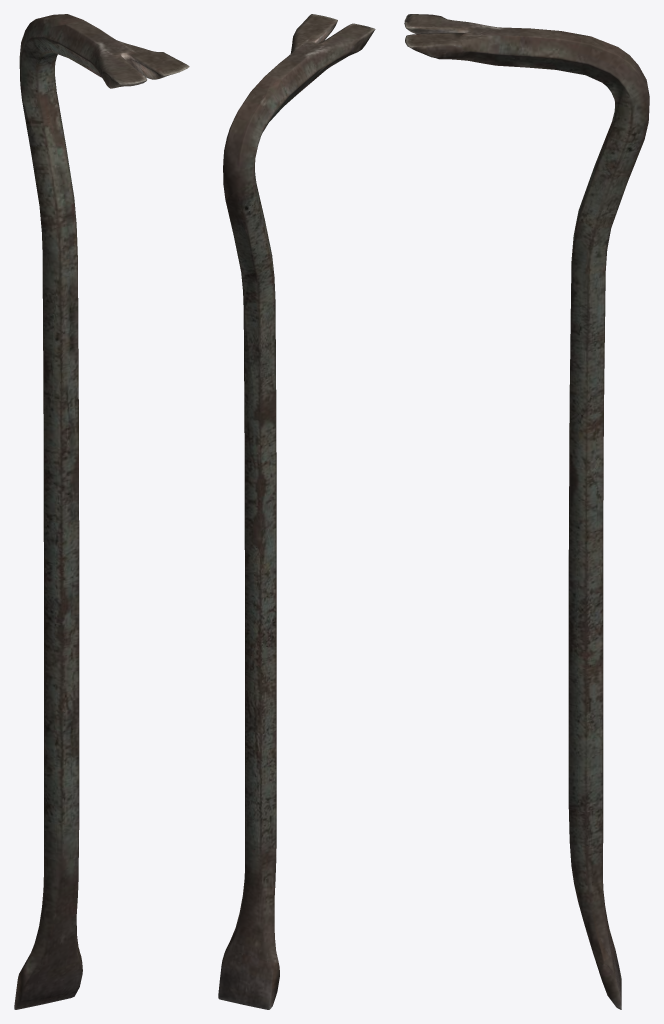
File: crowbar.glb
The picture shows the model from 3 angles, left to right: view 1: azimuth 30°, elevation 25°; view 2: azimuth 150°, elevation 25°; view 3: azimuth 270°, elevation 25°; orthographic projection. The views are drawn at different scales.
Visible parts, largest first — view 1: crowbar_01; view 2: crowbar_01; view 3: crowbar_01.
Part boxes in pixels (x1,y1,x2,y2): crowbar_01: [14, 14, 189, 1009]; crowbar_01: [218, 14, 375, 1009]; crowbar_01: [404, 14, 649, 1009].
Size of the model in its own units: 0.0404 by 0.5554 by 0.1276.
Materials: 1 (1 with a texture image).
